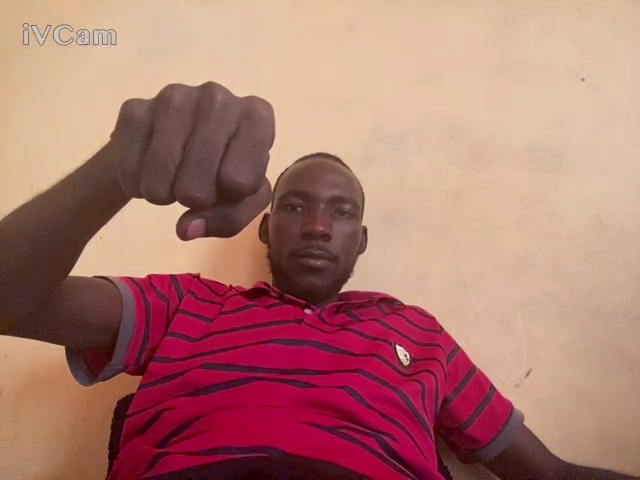Oui: (111, 80, 276, 244)
